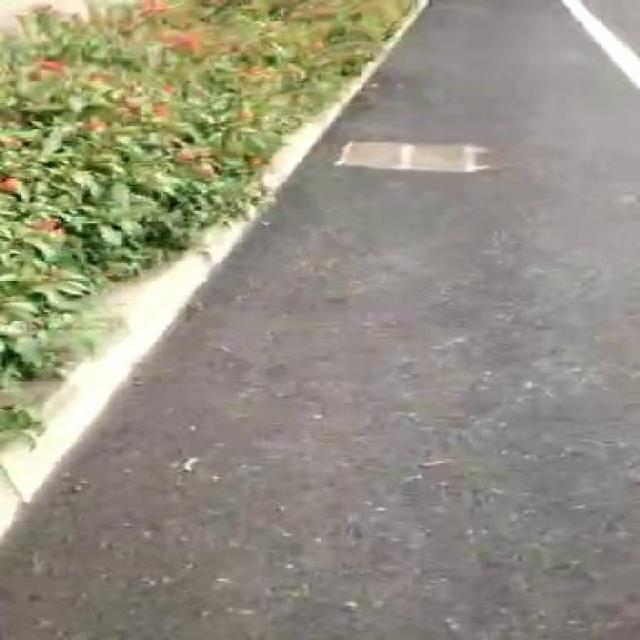Manhole: (332, 135, 483, 178)
